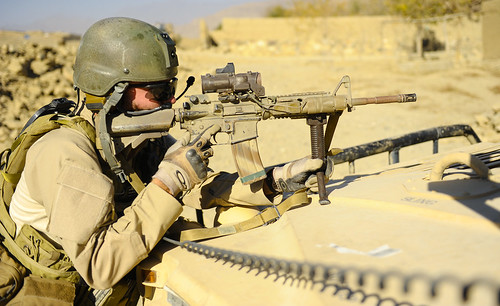soldier: (1, 21, 202, 306)
weapon: (119, 85, 410, 211)
